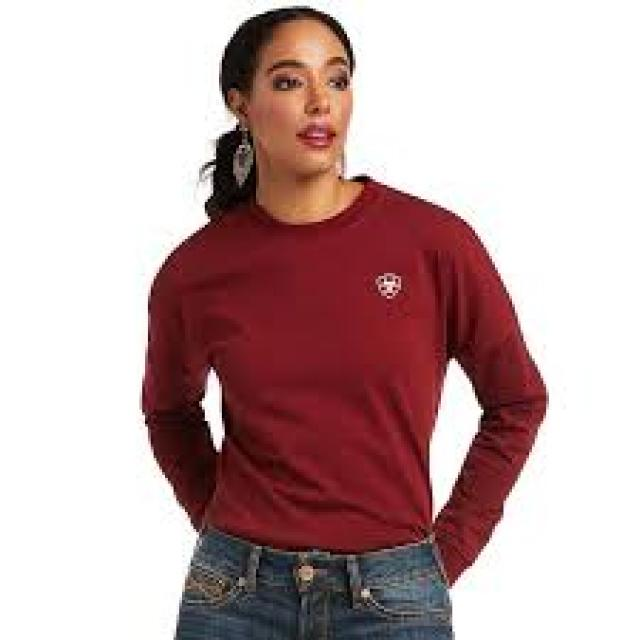plain: (116, 170, 560, 562)
